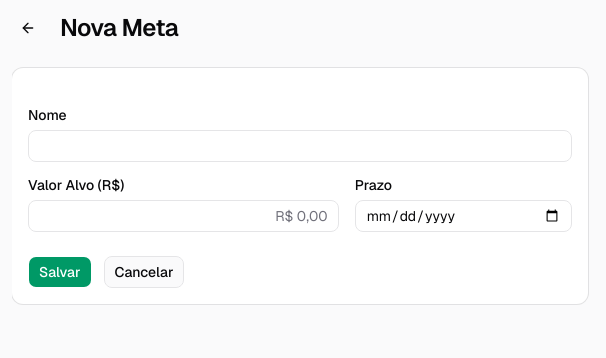
Test: NovaMetaPage › exibe mensagem de erro de API quando criar falha
In the field labelled "Nome": coordinates (300, 146) [28, 130, 572, 162], type "Falha"
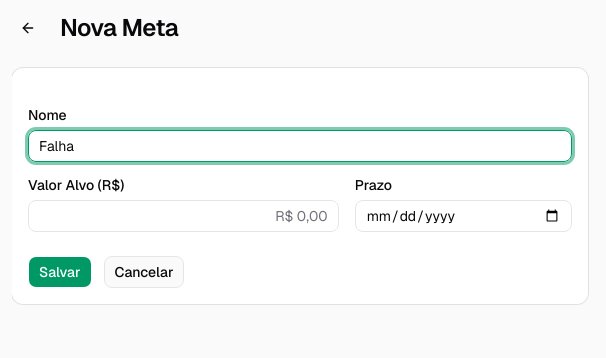
In the field labelled "Valor Alvo (R$)": coordinates (183, 216) [28, 200, 339, 232], type "1000"
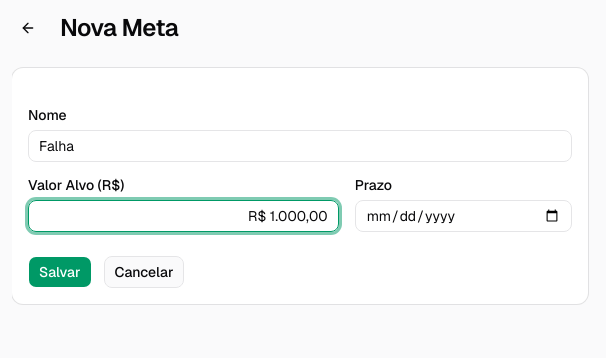
# Setar prazo valido para passar na validacao de data
In the date field labelled "Prazo": coordinates (463, 216) [355, 200, 572, 232], type "2027-12-31"
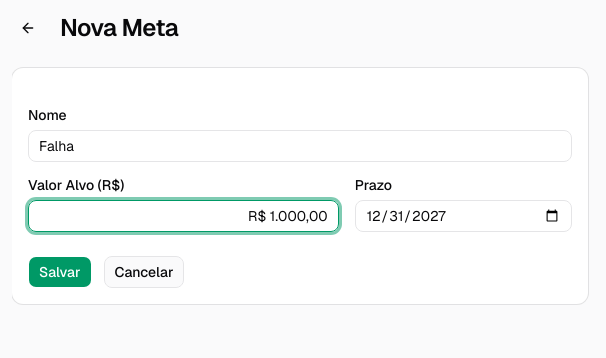
Click the button "Salvar": coordinates (60, 272) [28, 256, 92, 288]
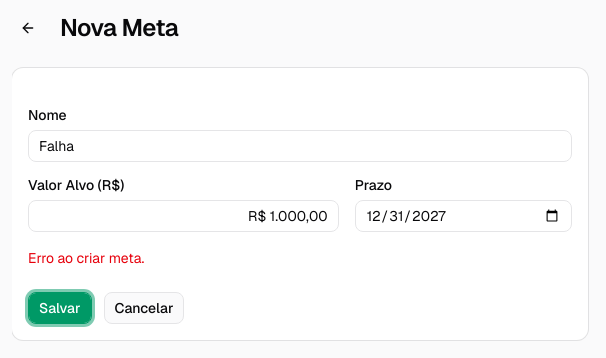
Now the text "Erro ao criar meta." is shown, box [28, 249, 144, 267]
